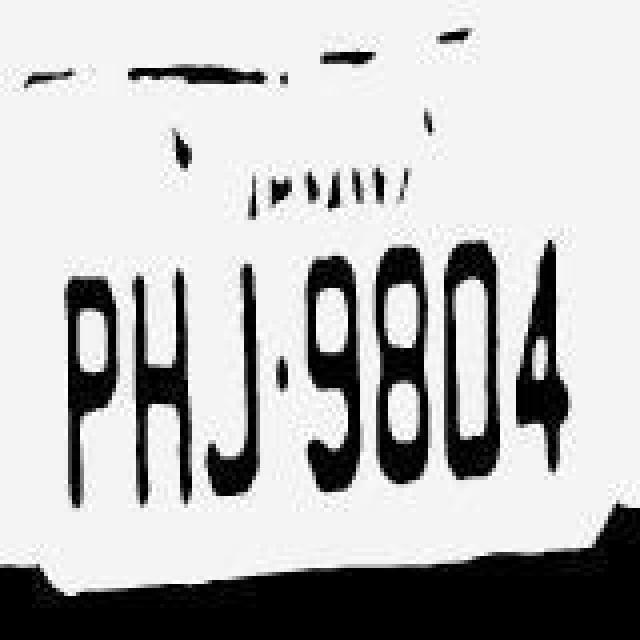4: (514, 220, 590, 484)
8: (364, 234, 436, 502)
9: (296, 236, 368, 516)
H: (130, 256, 206, 528)
J: (204, 244, 276, 508)
O: (436, 206, 508, 482)
P: (48, 262, 128, 530)
